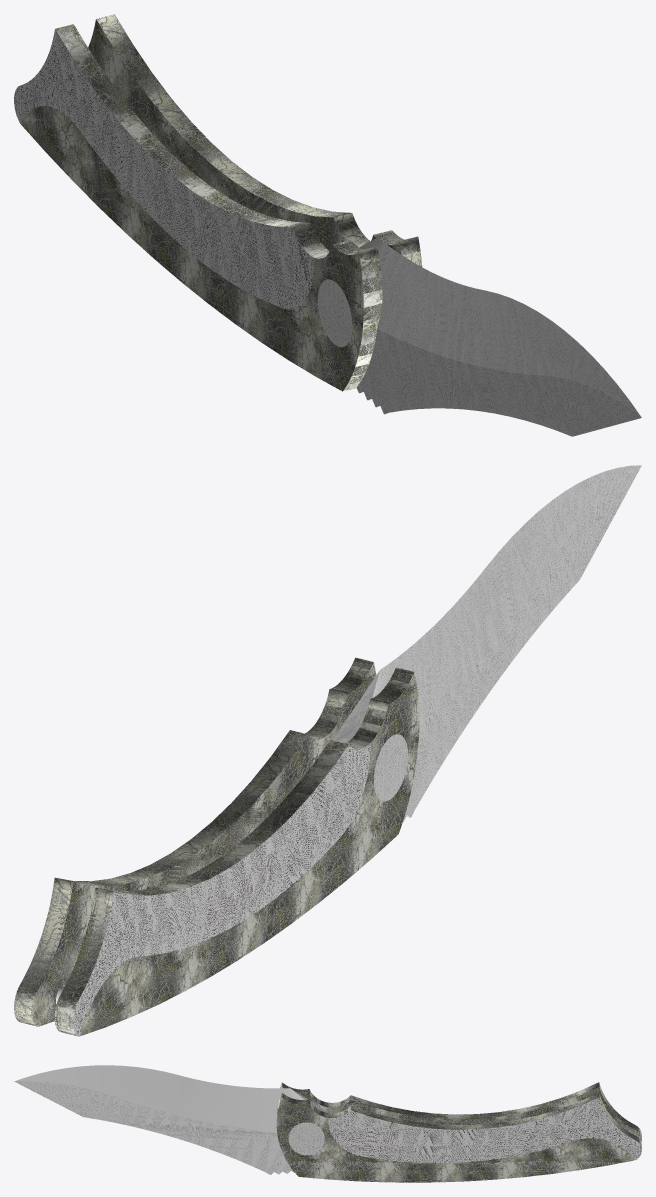
File: model_align.obj
3 views of the same model, one above another, from view 1: azimuth 30°, elevation 25°; view 2: azimuth 150°, elevation 25°; view 3: azimuth 270°, elevation 25° (orthographic). The views are drawn at different scales.
Visible parts, largest first — view 1: mesh1_mesh1-geometry, mesh8_mesh8-geometry; view 2: mesh1_mesh1-geometry, mesh8_mesh8-geometry; view 3: mesh1_mesh1-geometry, mesh8_mesh8-geometry.
Boxes of the visible parts, x1,y1,x2,y2 form: mesh1_mesh1-geometry: [14, 14, 422, 391]; mesh8_mesh8-geometry: [356, 237, 641, 436]; mesh1_mesh1-geometry: [14, 657, 419, 1036]; mesh8_mesh8-geometry: [333, 465, 641, 822]; mesh1_mesh1-geometry: [276, 1082, 641, 1182]; mesh8_mesh8-geometry: [14, 1065, 328, 1174].
Size of the model in its own units: 0.013 by 0.0434 by 0.2264.
5 materials, 2 textured.
